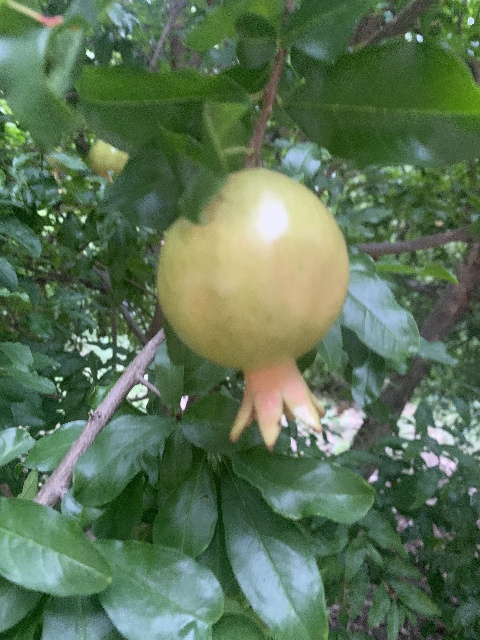mid-growth: (155, 169, 350, 452), (88, 140, 128, 183)
